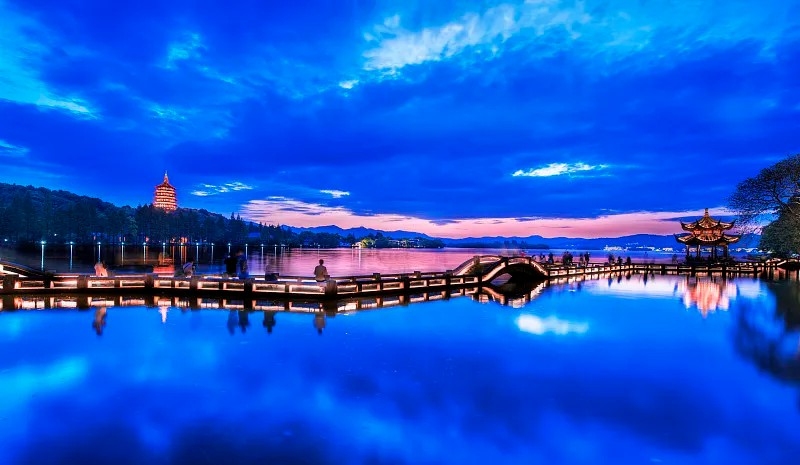Leifeng: (151, 169, 178, 212)
